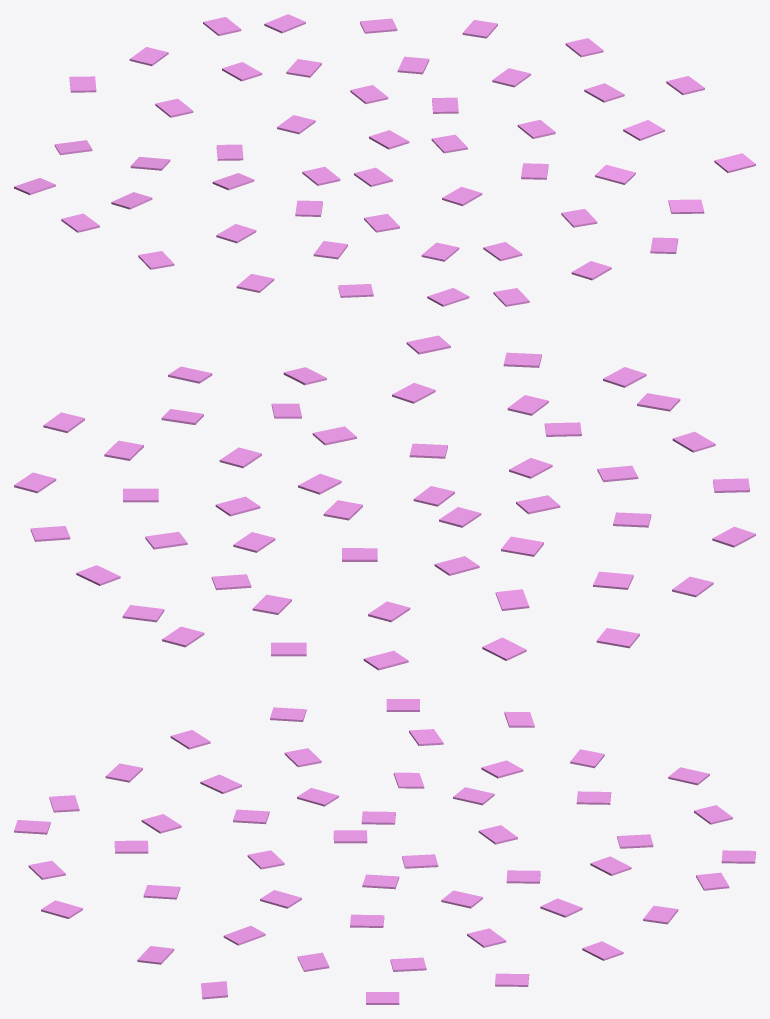
Rendered from ham.glb.
3 views of the same model, one above another, from view 1: azimuth 30°, elevation 25°; view 2: azimuth 150°, elevation 25°; view 3: azimuth 270°, elevation 25° (orthographic). The views are drawn at different scales.
Parts seen in each view (by area): view 1: polySurface111; view 2: polySurface111; view 3: polySurface111.
Boxes of the visible parts, bbox=[...] form: polySurface111: bbox=[14, 14, 755, 306]; polySurface111: bbox=[14, 335, 755, 670]; polySurface111: bbox=[14, 699, 755, 1004].
Size of the model in its own units: 0.3383 by 0.00913 by 0.349.
